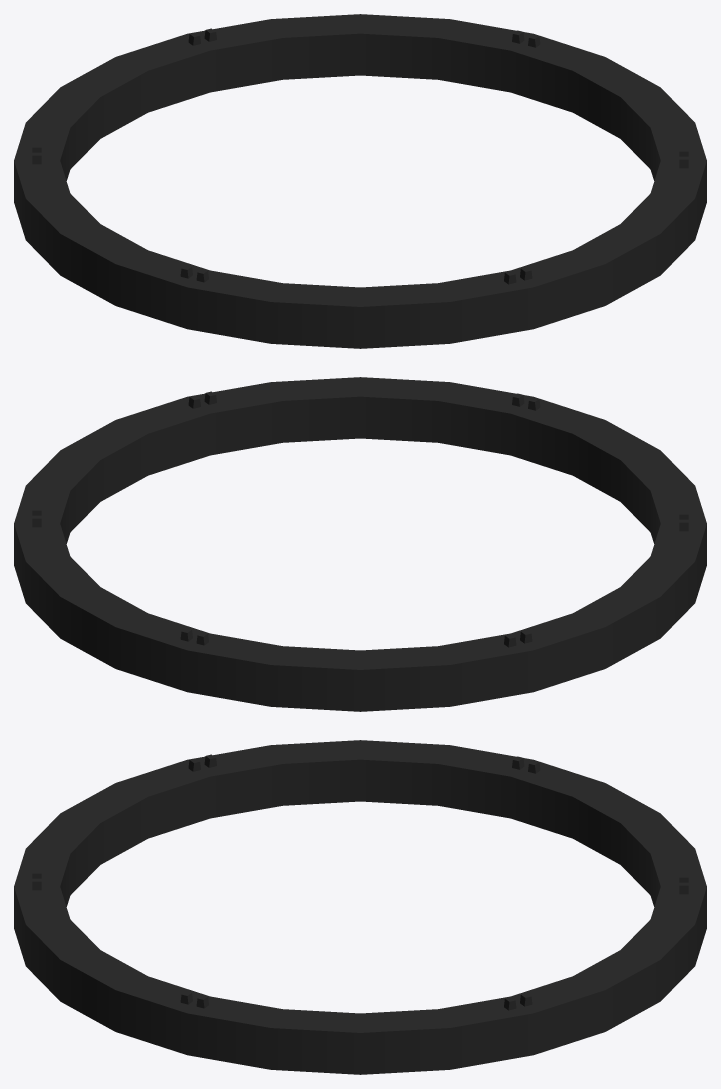
Rendered from sargas_docking_mechanism_s1p5_1.obj.
3 renders of one model, top to bottom at view 1: azimuth 30°, elevation 25°; view 2: azimuth 150°, elevation 25°; view 3: azimuth 270°, elevation 25°, orthographic.
Visible parts, largest first — view 1: sargas_docking_mechanism_s1p5_2; view 2: sargas_docking_mechanism_s1p5_2; view 3: sargas_docking_mechanism_s1p5_2.
Boxes of the visible parts, left/top/right/bottom form: sargas_docking_mechanism_s1p5_2: left=14, top=14, right=706, bottom=348; sargas_docking_mechanism_s1p5_2: left=14, top=377, right=706, bottom=711; sargas_docking_mechanism_s1p5_2: left=14, top=740, right=706, bottom=1074.
Bounding box in the file's own units: 1.88 × 0.15 × 1.88.
